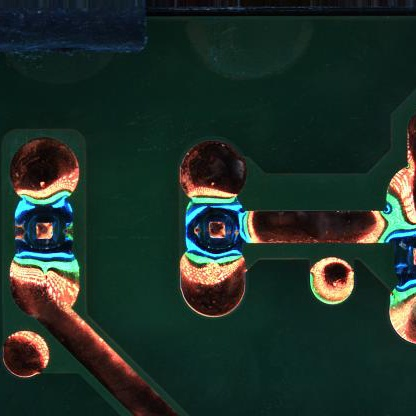spot: (12, 194, 81, 262), (181, 194, 250, 261)
